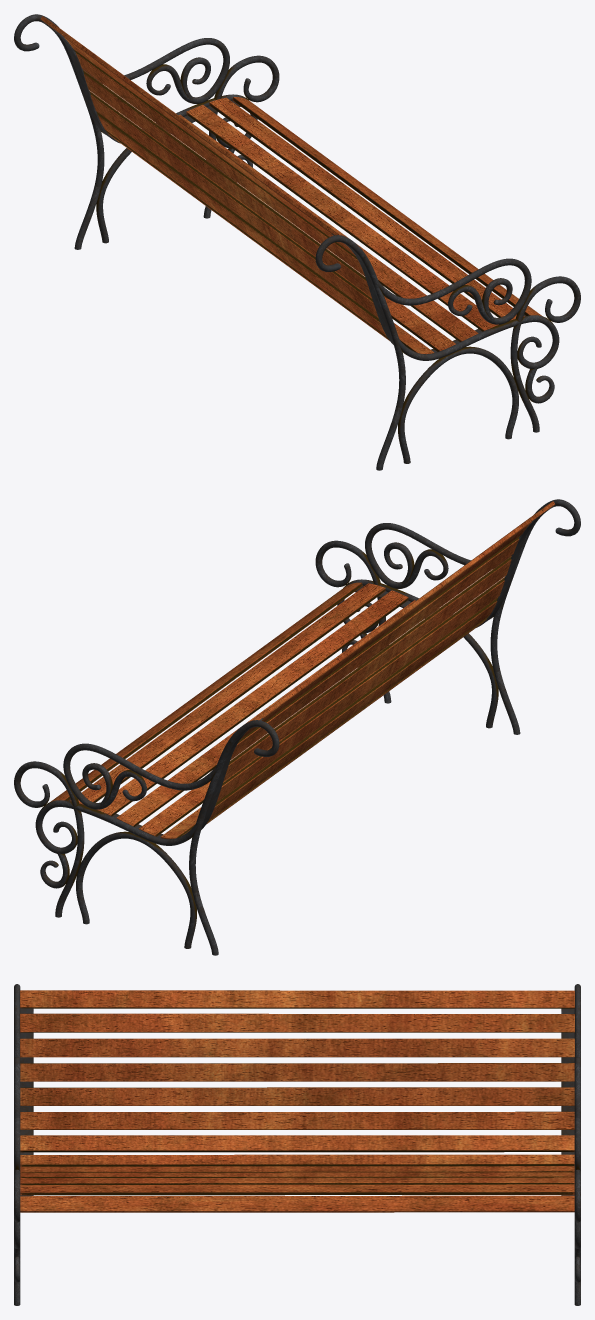
File: Bench.fbx
The picture shows the model from 3 angles, top to bottom: view 1: azimuth 30°, elevation 25°; view 2: azimuth 150°, elevation 25°; view 3: azimuth 270°, elevation 25°; orthographic projection. The views are drawn at different scales.
Visible parts, largest first — view 1: Bench; view 2: Bench; view 3: Bench.
Boxes of the visible parts, x1,y1,x2,y2 form: Bench: (14,14,580,470); Bench: (14,499,580,955); Bench: (14,984,580,1305).
Bounding box in the file's own units: 151 × 133 × 301.
